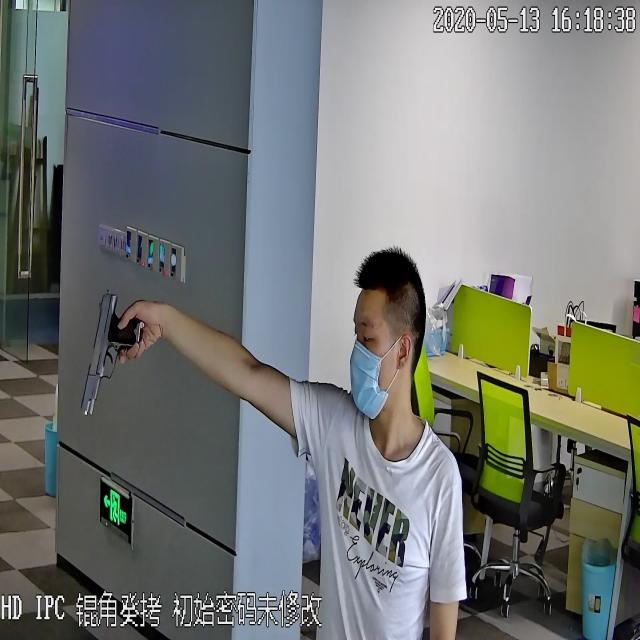gun: (74, 288, 148, 428)
